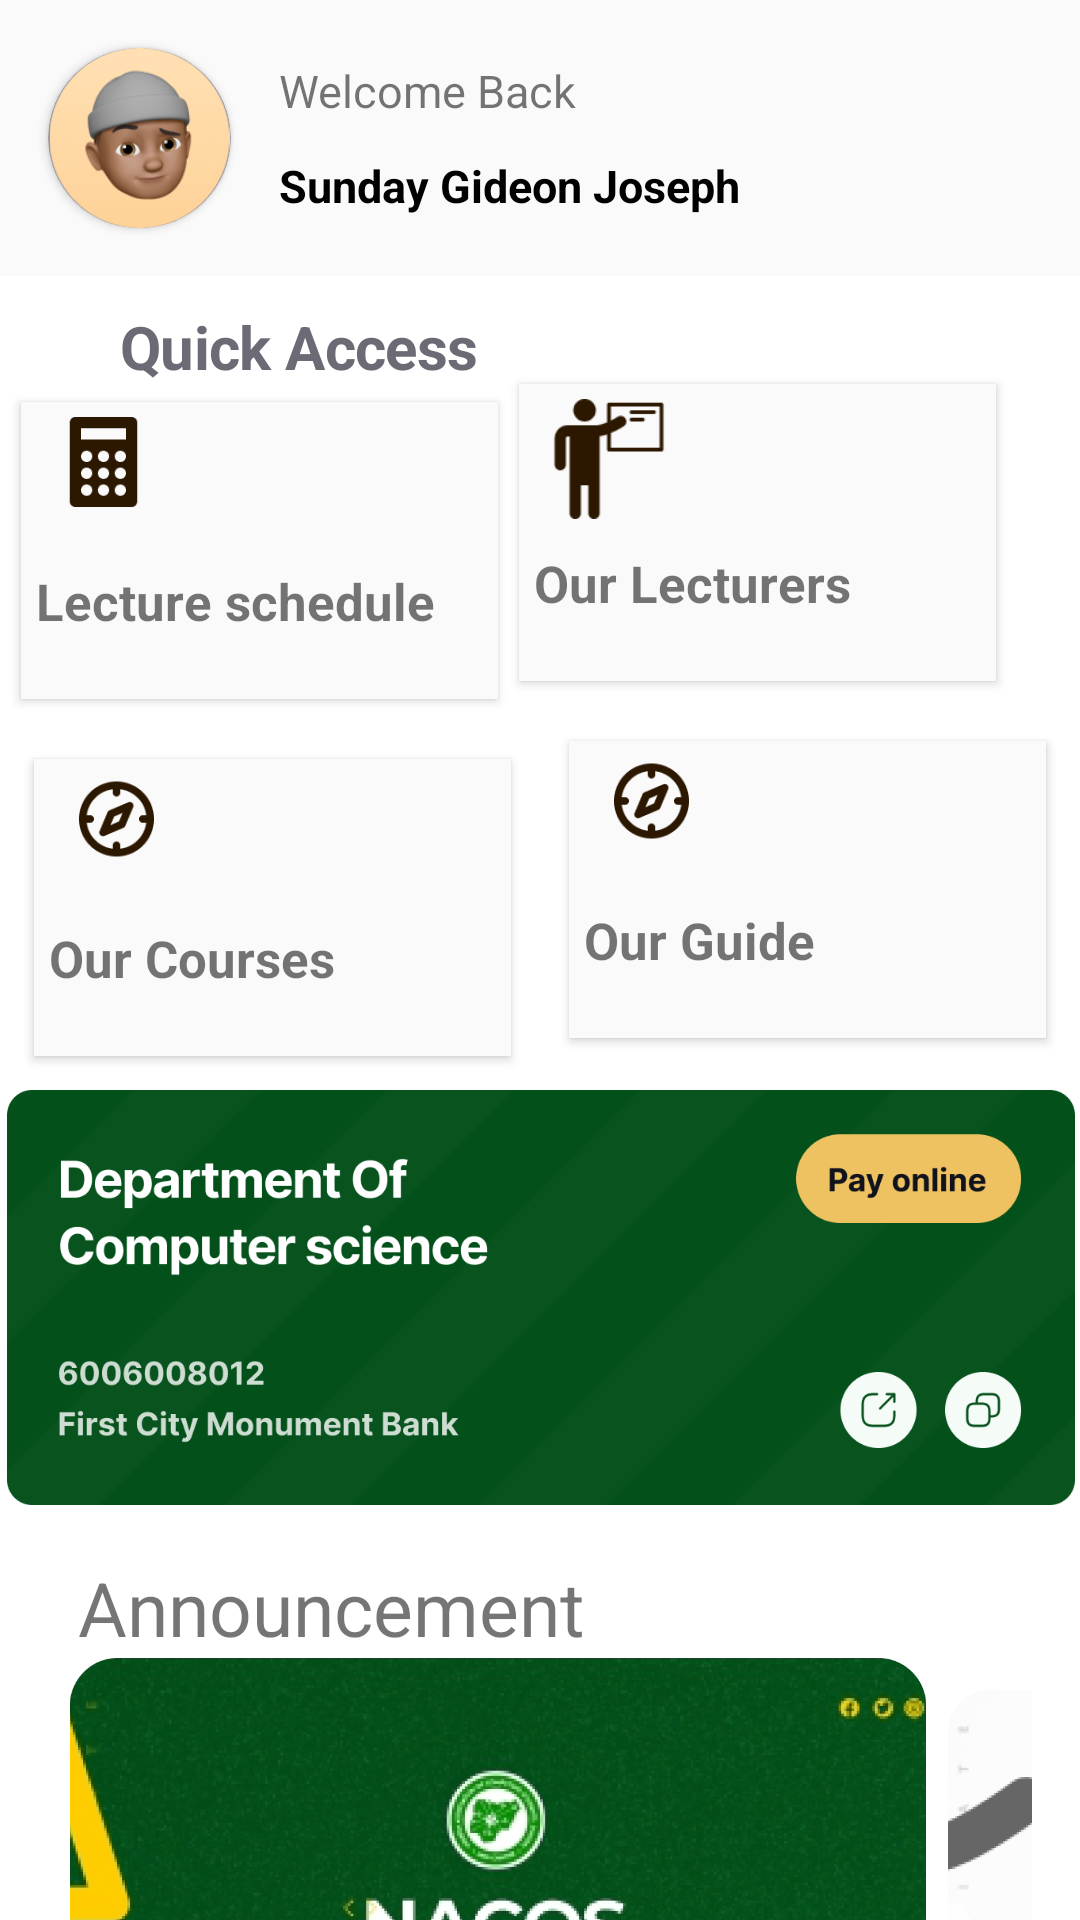

Where icons sit on this 1080px x 1920px app screen, as (left=x1, top=y1, right=x2, bottom=y2):
calculator: (left=69, top=417, right=138, bottom=507)
direction: (left=614, top=763, right=689, bottom=839), (left=79, top=781, right=154, bottom=857)
tteacher: (left=554, top=399, right=664, bottom=519)
